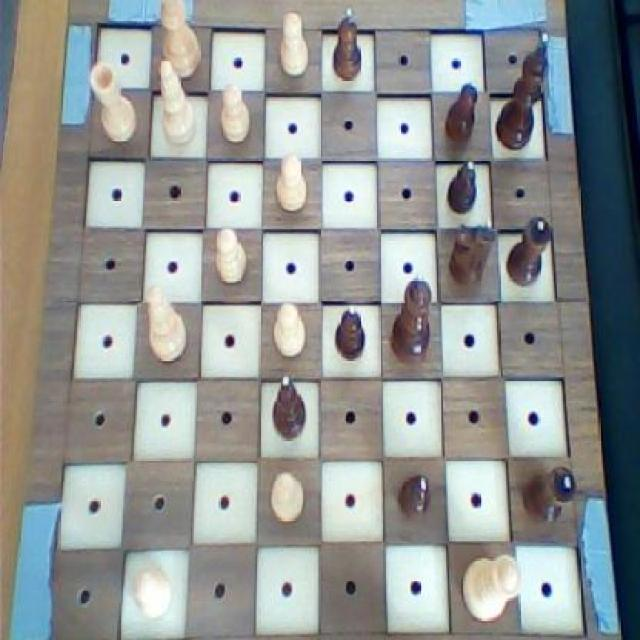bishop: (270, 372, 308, 440)
black-bishop: (491, 28, 552, 153)
black-king: (443, 217, 499, 295)
black-knight: (325, 5, 367, 84), (442, 75, 480, 148), (443, 155, 482, 221), (395, 468, 434, 528), (334, 302, 368, 364)
black-pawn: (386, 266, 434, 368)
black-queen: (505, 212, 553, 292), (522, 462, 579, 529)
black-rook: (152, 57, 202, 148), (143, 281, 192, 367)
white-bishop: (157, 0, 206, 81)
white-knight: (131, 562, 175, 626), (214, 223, 254, 290), (271, 148, 310, 216), (217, 80, 255, 148), (275, 9, 310, 81), (270, 298, 308, 362), (269, 468, 306, 526)
white-pawn: (460, 551, 525, 623)
white-queen: (86, 58, 142, 146)
